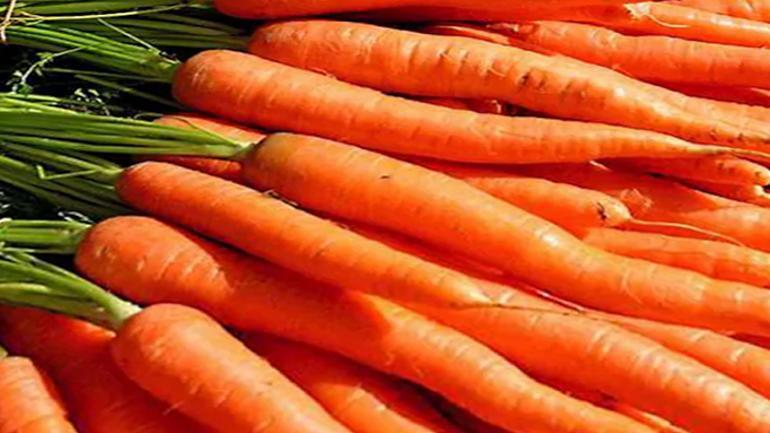carrot: (138, 13, 770, 433), (3, 56, 694, 433)
